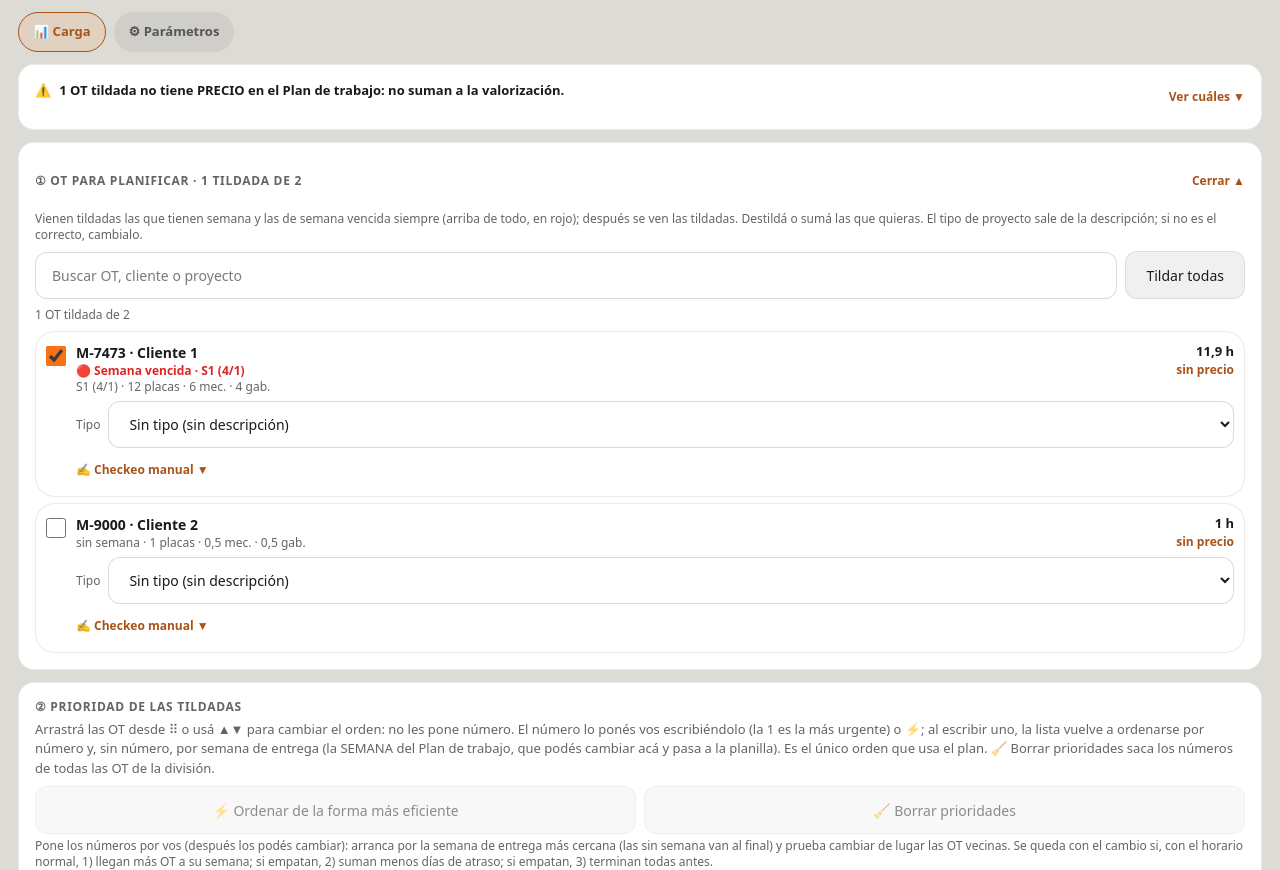
Test: 📊 Carga — el checkeo manual baja las horas que faltan de la OT y no destilda las OT
Click the checkbox named "Planificar OT M-9000" at (56, 528), box top-left (46, 518), bottom-right (66, 538)
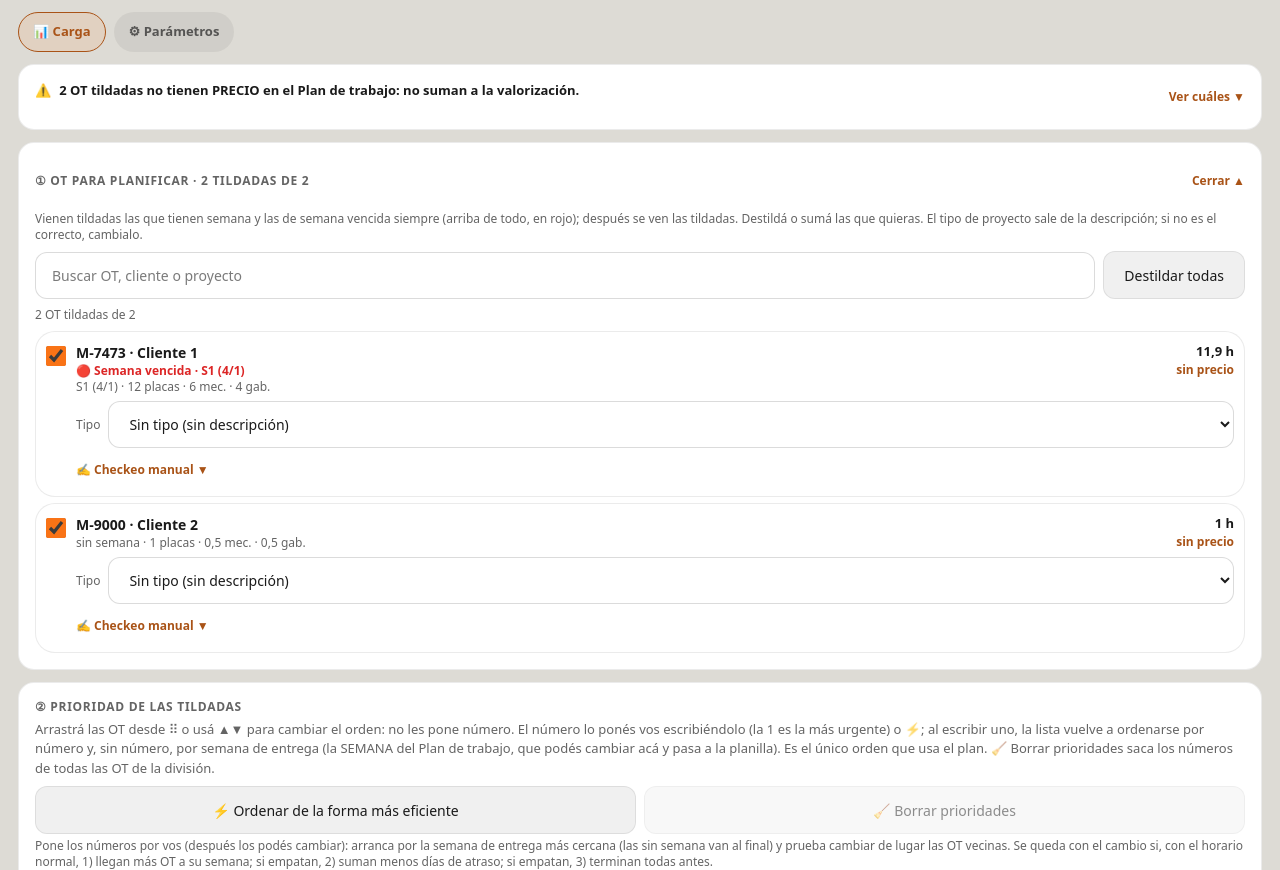
Click the button "✍ Checkeo manual ▼" below "S1 (4/1) · 12 placas · 6 mec. · 4 gab." at (142, 470), box top-left (76, 454), bottom-right (209, 486)
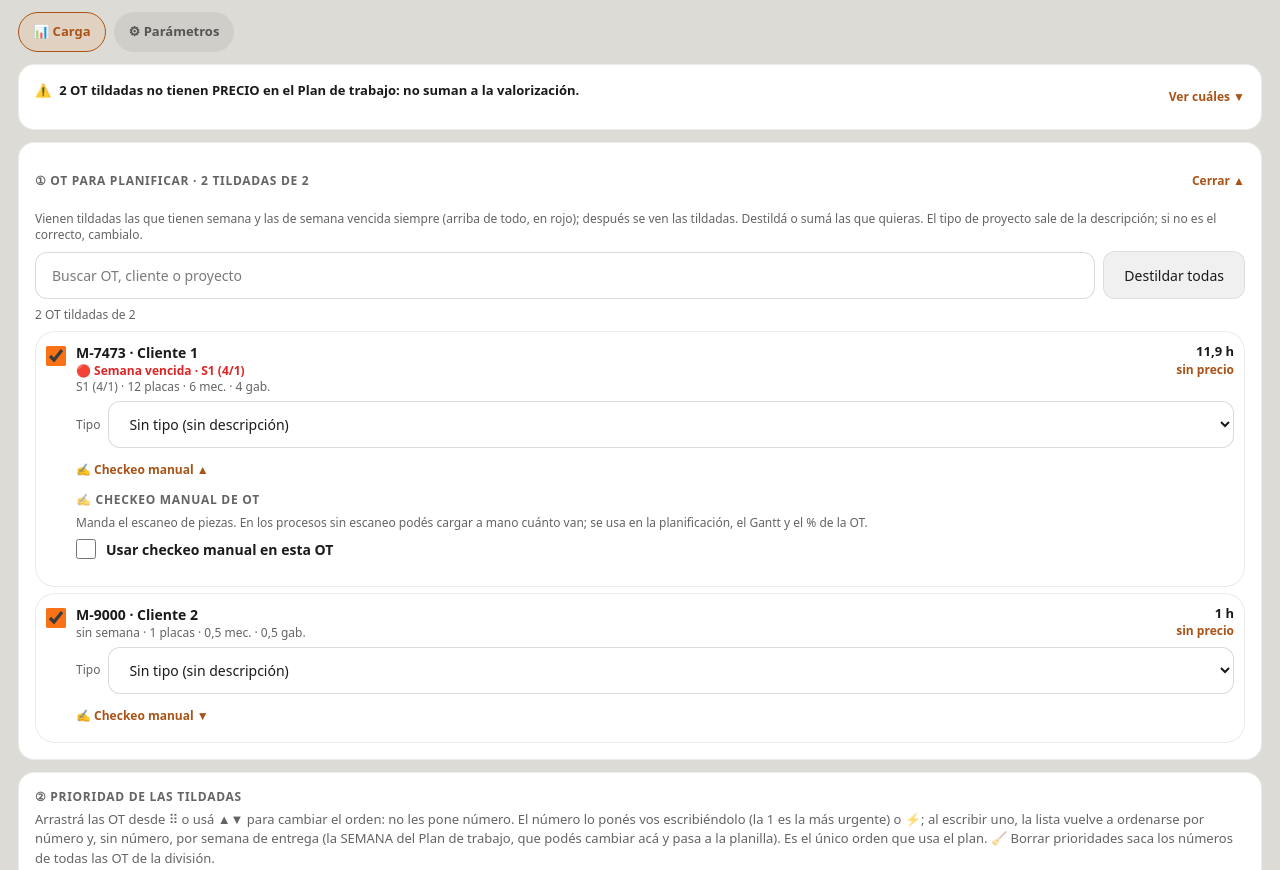
Click the checkbox labelled "Usar checkeo manual en esta OT" at (86, 549), box top-left (76, 539), bottom-right (96, 559)
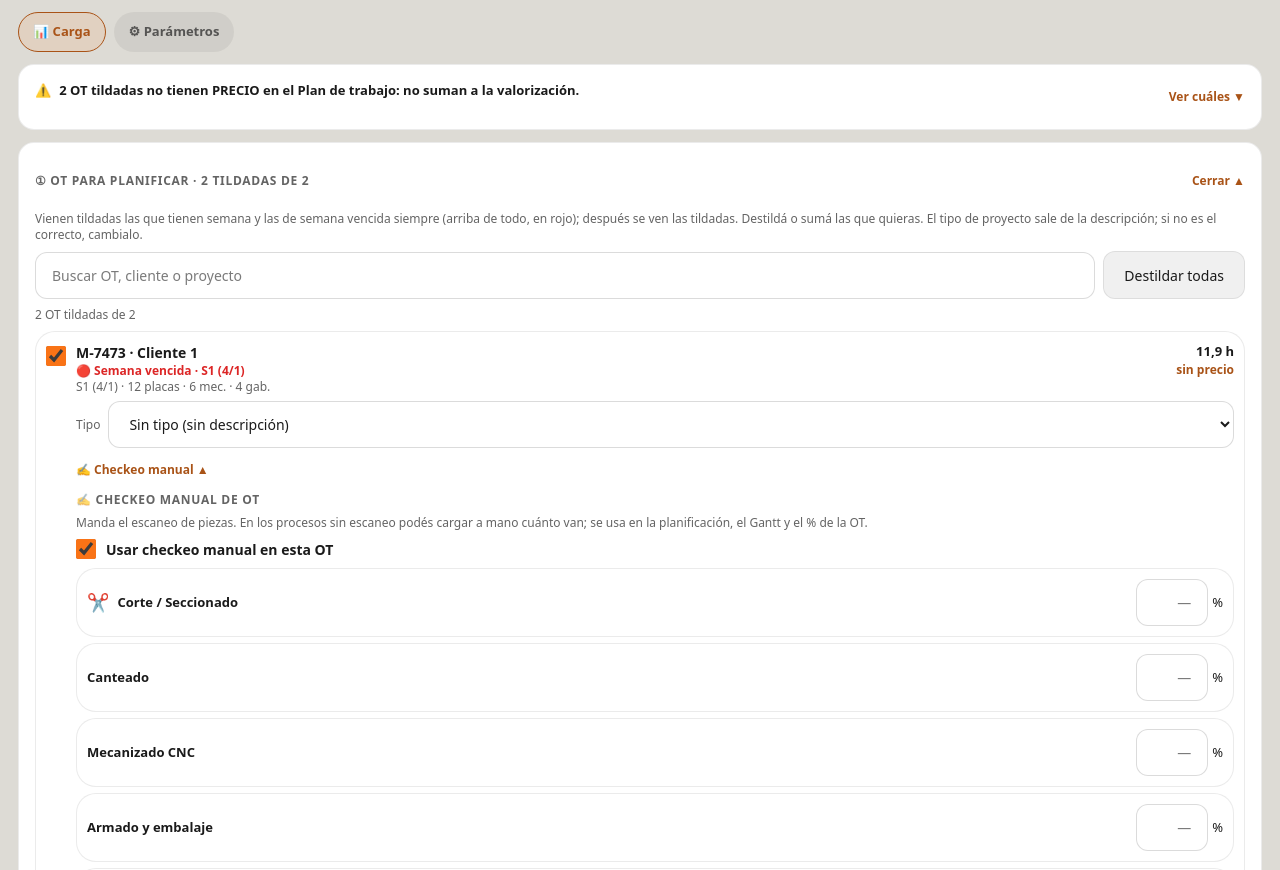
Type "100" into the field labelled "Corte / Seccionado" at (1172, 602), box top-left (1136, 579), bottom-right (1208, 626)
Type "100" into the field labelled "Canteado" at (1172, 677), box top-left (1136, 654), bottom-right (1208, 701)
Type "100" into the field labelled "Mecanizado CNC" at (1172, 752), box top-left (1136, 729), bottom-right (1208, 776)
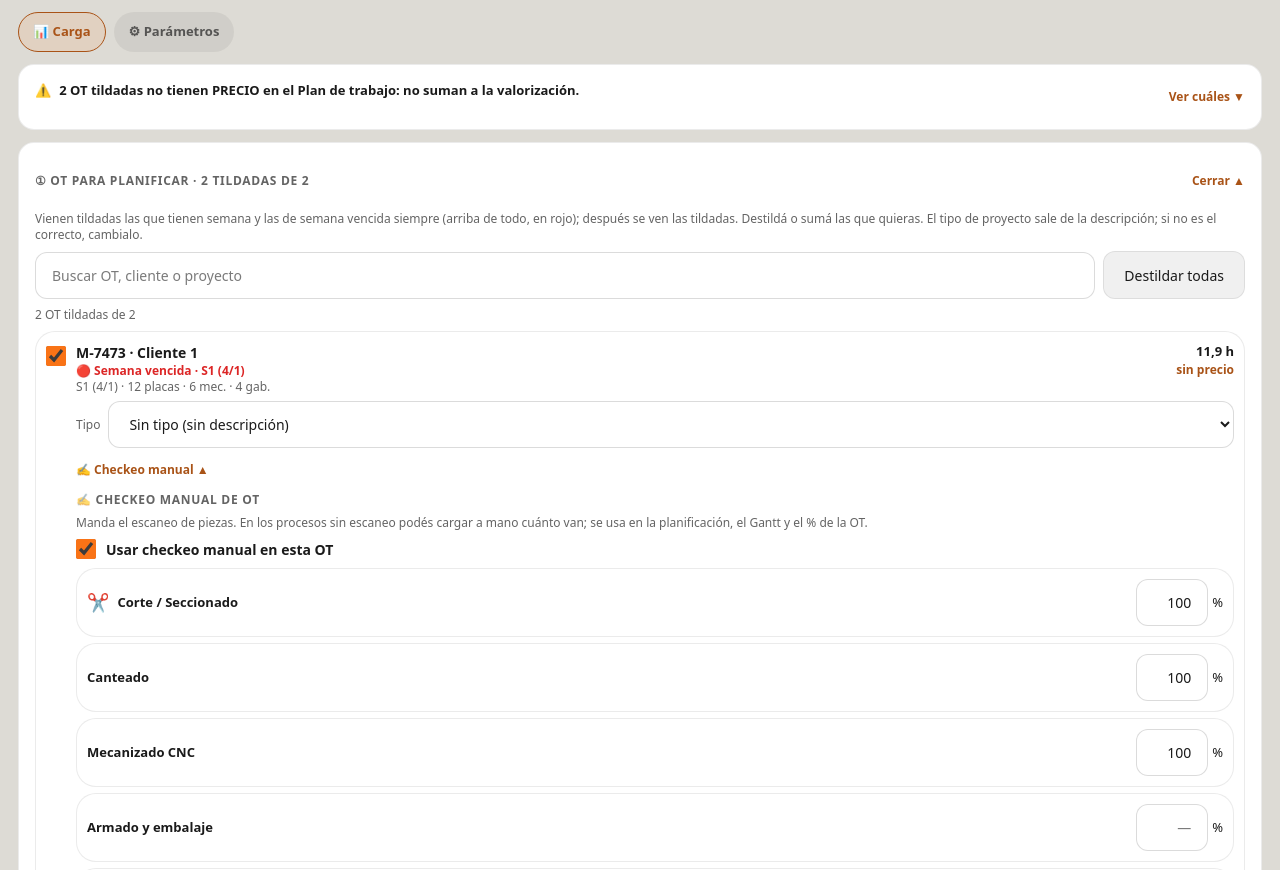
Type "100" into the field labelled "Armado y embalaje" at (1172, 827), box top-left (1136, 804), bottom-right (1208, 851)
(page scrolled)
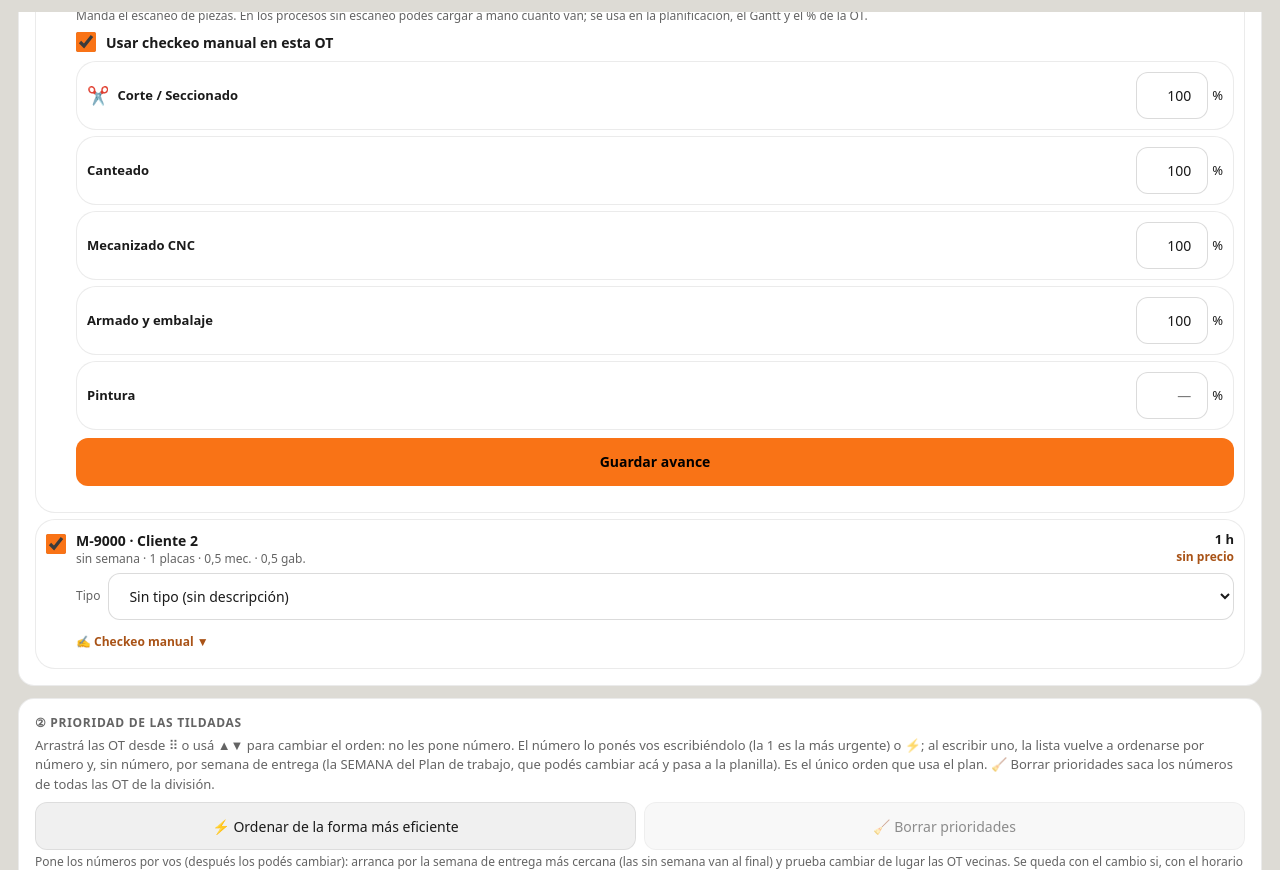
Click the button "Guardar avance" at (655, 462), box top-left (76, 438), bottom-right (1234, 486)
(page scrolled)
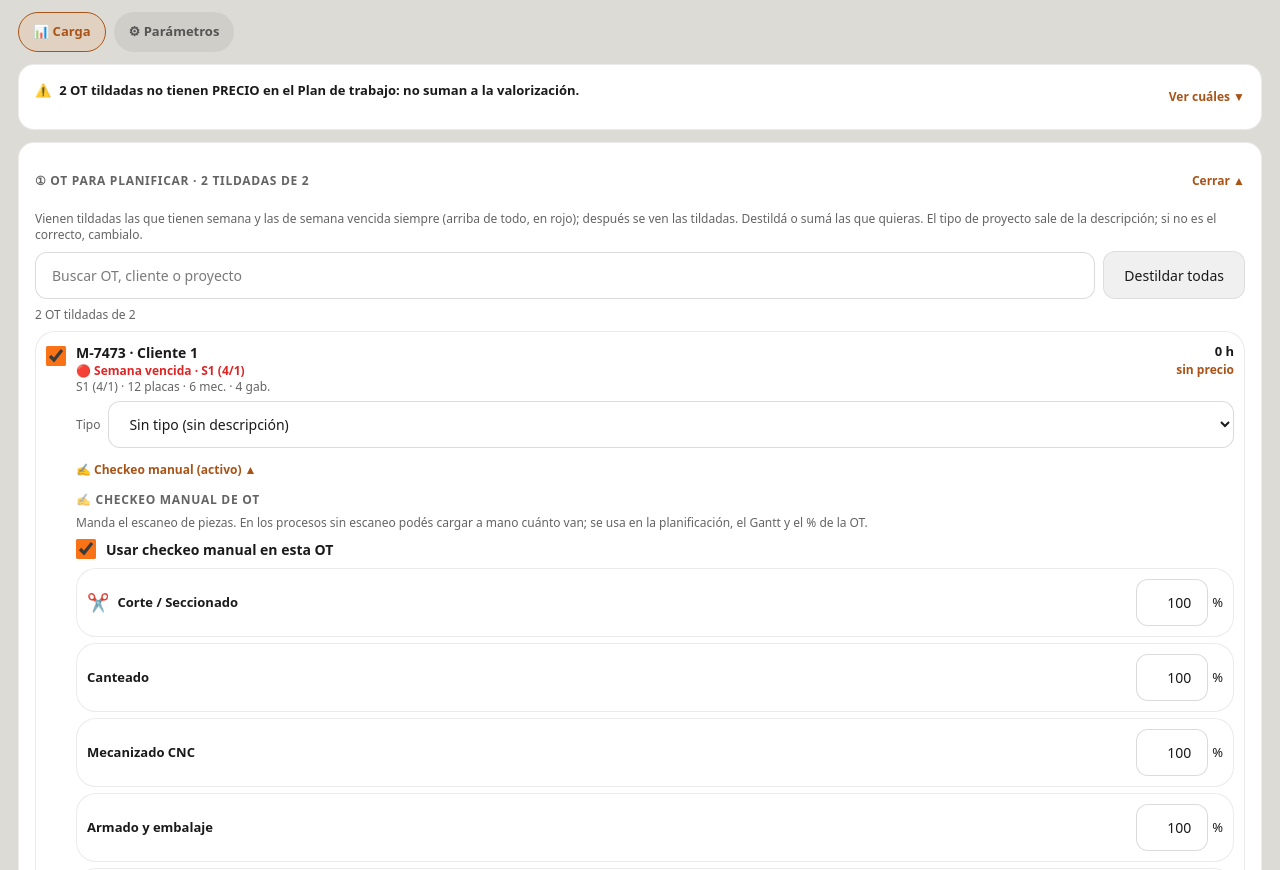
Check: the button "✍ Checkeo manual (activo) ▲" is shown, box top-left (76, 454), bottom-right (256, 486)
Check: the text "0 h" is shown, box top-left (1215, 342), bottom-right (1234, 360)
